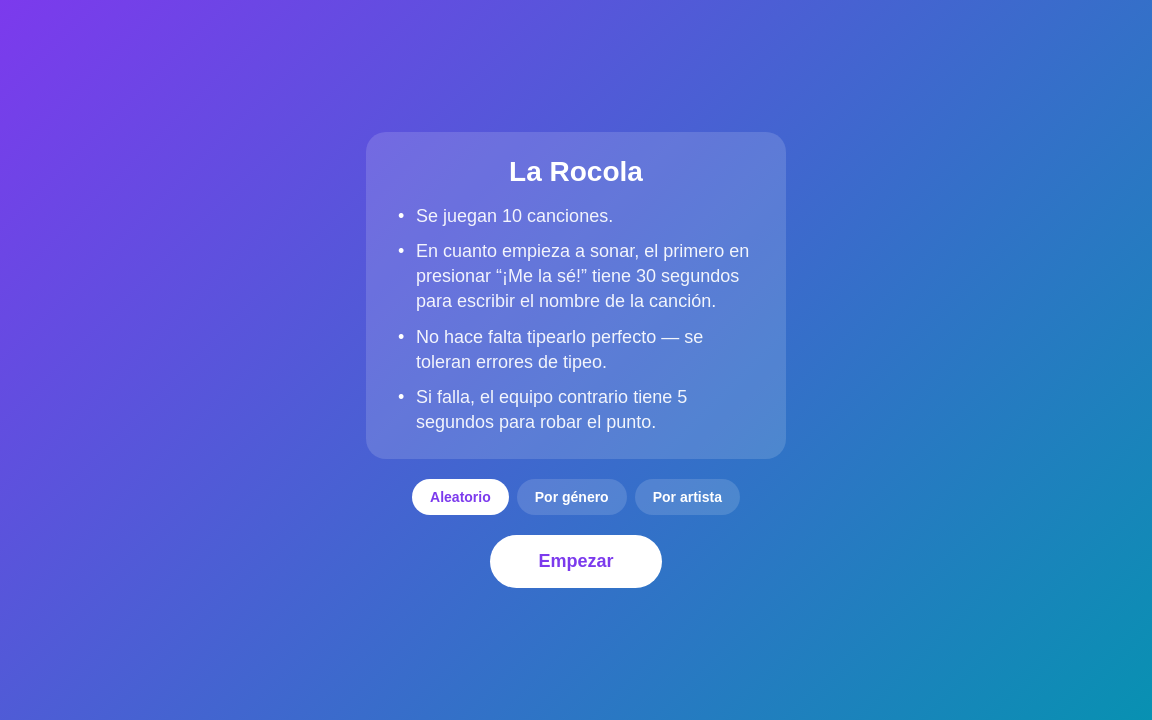
Test: ScreenLaRocola › en idle, "Empezar" está deshabilitado hasta elegir un género concreto
This screenshot has width=1152, height=720.
Click the button "Por género" at x=572, y=497, box [517, 479, 627, 515]
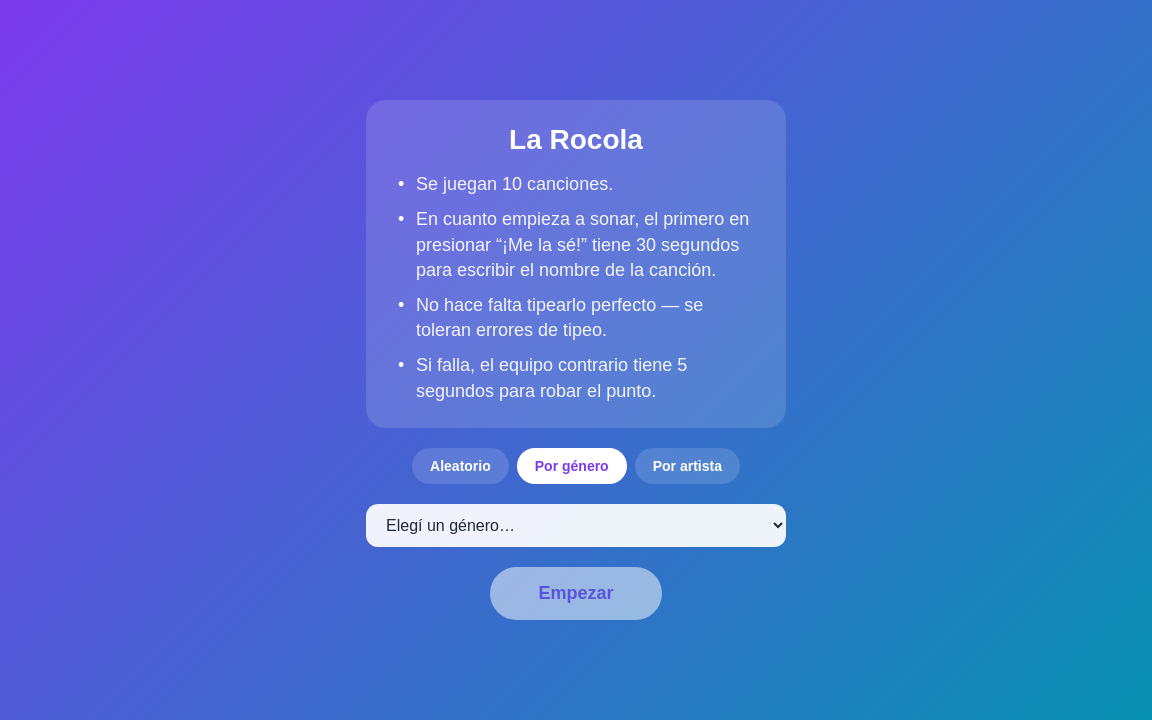
Result: the button "Empezar" is disabled at [490, 567, 662, 620]
